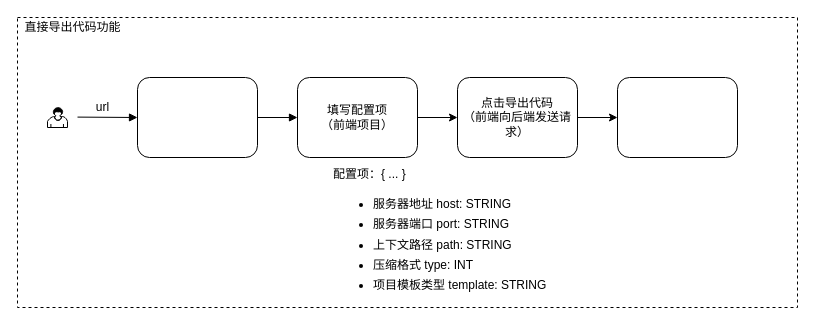
This 815x325 diagram has some shape labels left out. Here are the shapes that lost their labels. From the top down, the centre of each, then its label:
At pixel 197 117: "进入项目 （前端项目）".
At pixel 677 117: "根据传入的配置进行项目打包并返回".
